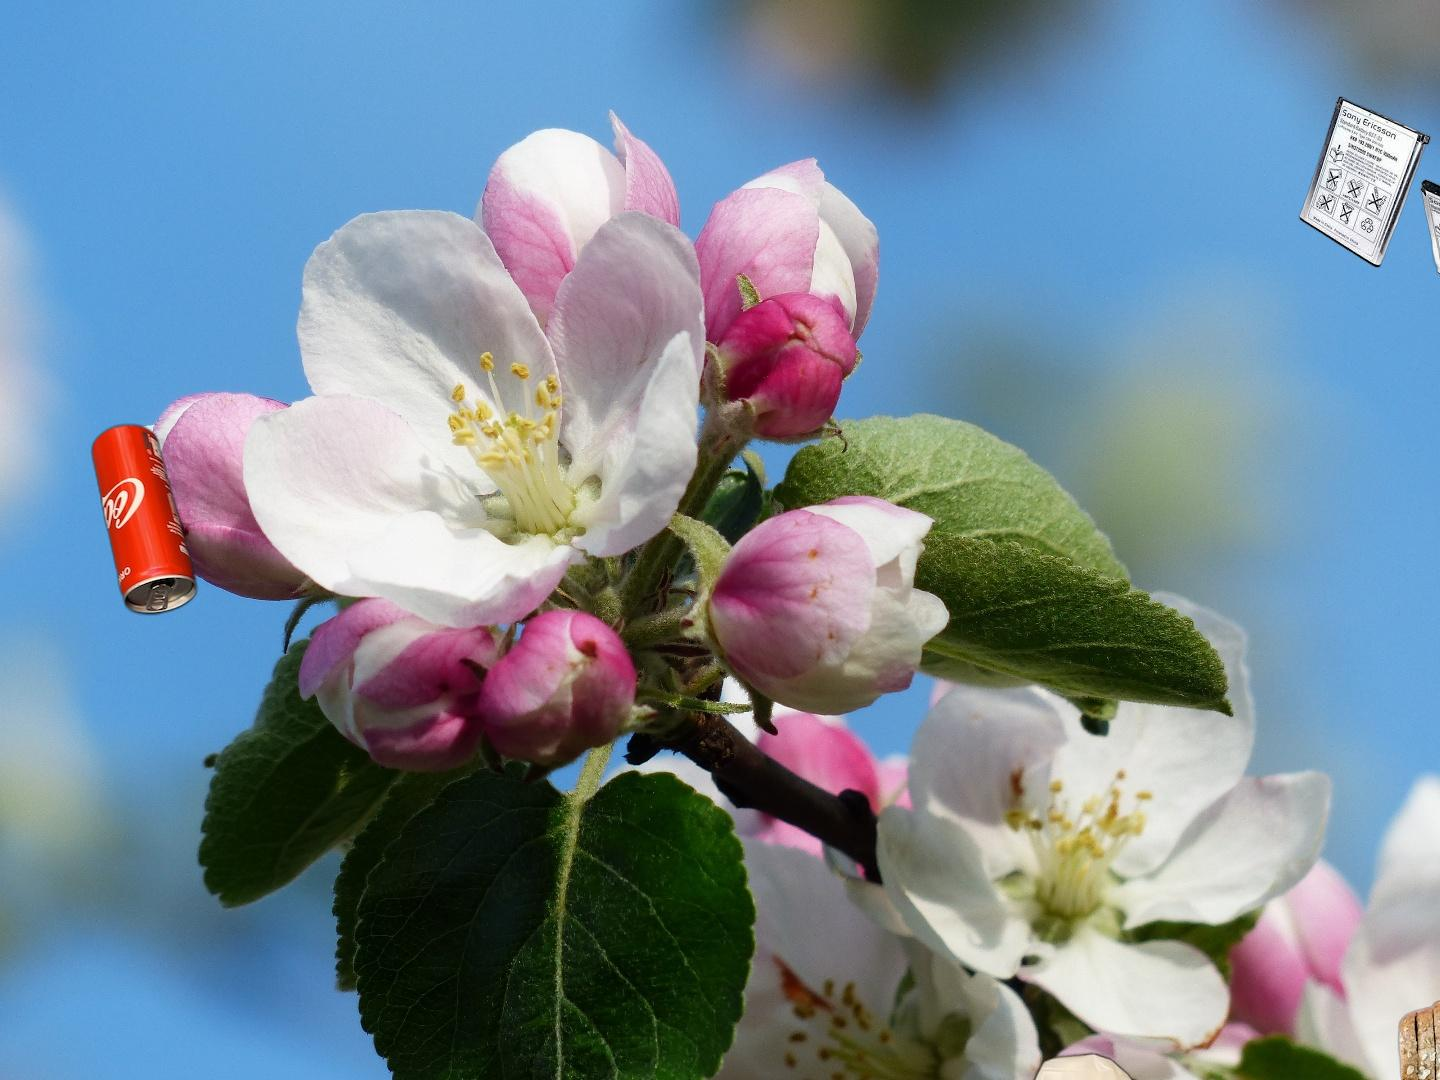battery: (1296, 94, 1440, 313)
biological: (1395, 997, 1440, 1080)
metal-cans: (87, 417, 202, 621)
plastic-bottles: (861, 947, 1373, 1080)
